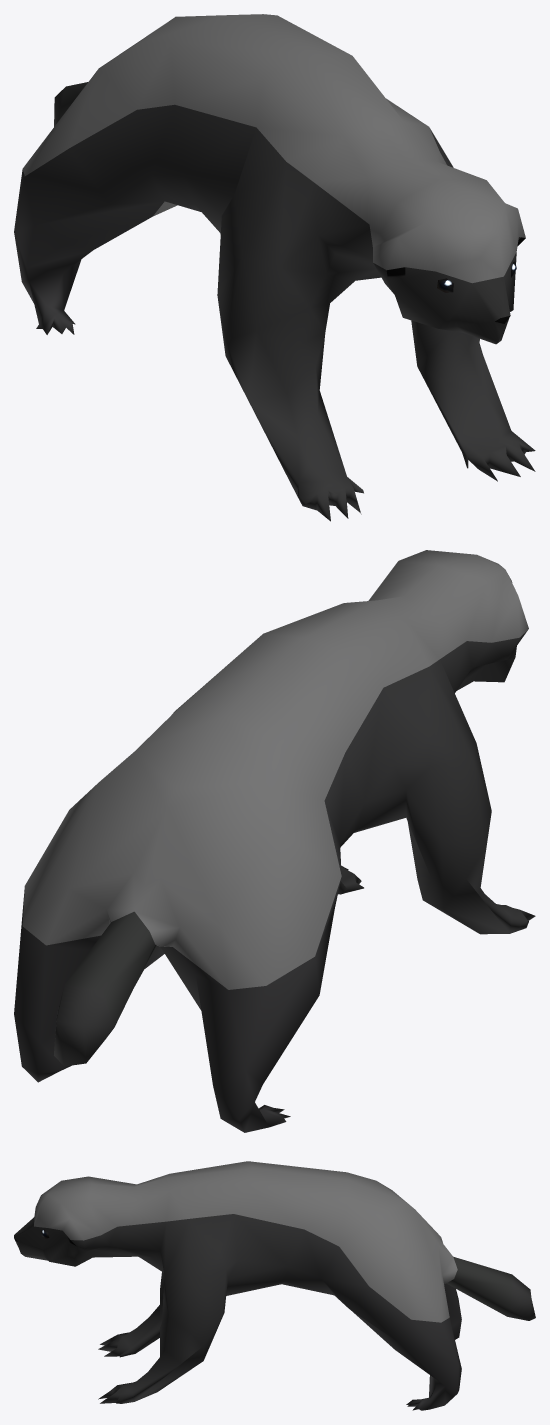
Rendered from HoneyBadger.glb.
The picture shows the model from 3 angles, top to bottom: view 1: azimuth 30°, elevation 25°; view 2: azimuth 150°, elevation 25°; view 3: azimuth 270°, elevation 25°; orthographic projection. The views are drawn at different scales.
Visible parts, largest first — view 1: HoneyBadger; view 2: HoneyBadger; view 3: HoneyBadger.
Part boxes in pixels (left/top/right/bottom): HoneyBadger: left=14, top=14, right=535, bottom=521; HoneyBadger: left=14, top=550, right=535, bottom=1132; HoneyBadger: left=14, top=1161, right=535, bottom=1410.
Size of what is drawn, in the model's own units: 0.4938 by 0.574 by 1.3.
1 material, 1 textured.
